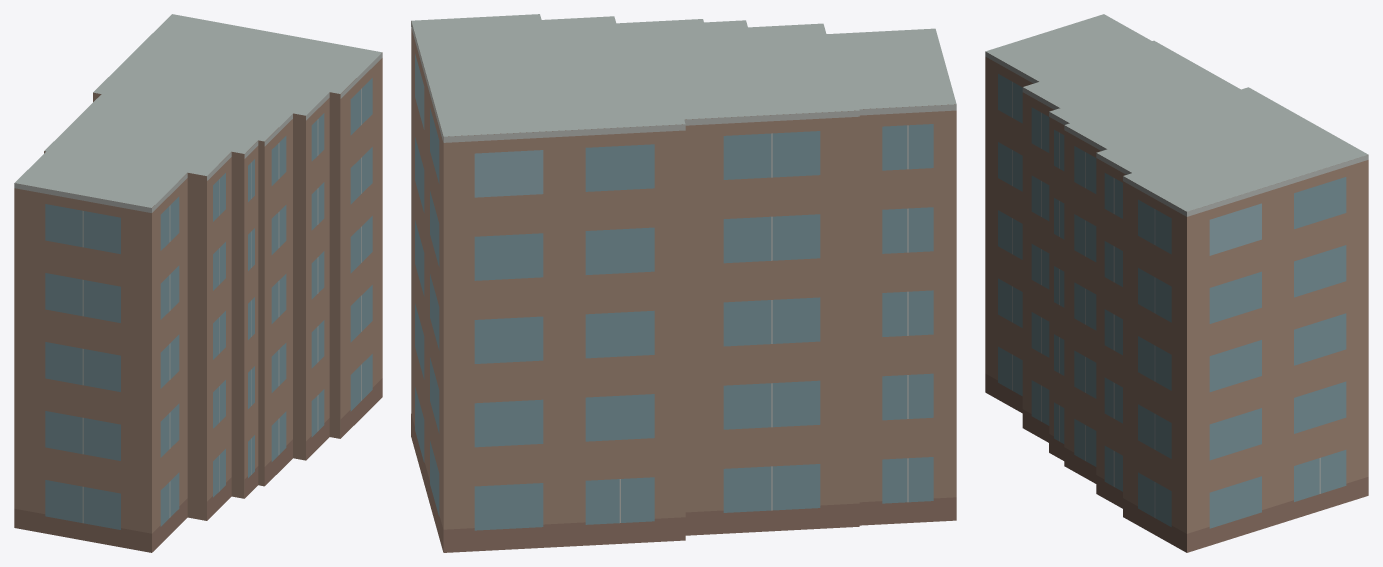
The model's file is survey-upis-32587781.glb.
3 views of the same model, side by side, from view 1: azimuth 30°, elevation 25°; view 2: azimuth 150°, elevation 25°; view 3: azimuth 270°, elevation 25° (orthographic). The views are drawn at different scales.
Parts seen in each view (by area): view 1: survey-upis-32587781.tmp; view 2: survey-upis-32587781.tmp; view 3: survey-upis-32587781.tmp.
Part boxes in pixels (x1,y1,x2,y2): survey-upis-32587781.tmp: (14,14,382,552); survey-upis-32587781.tmp: (411,14,956,552); survey-upis-32587781.tmp: (985,14,1368,552).
Bounding box in the file's own units: 20.29 × 16.3 × 16.61.
